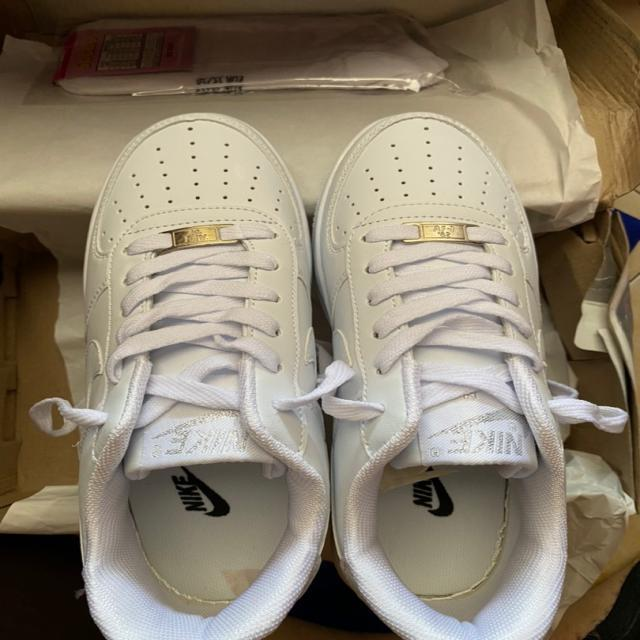nike fake air force: (312, 109, 576, 640), (73, 108, 336, 640)
